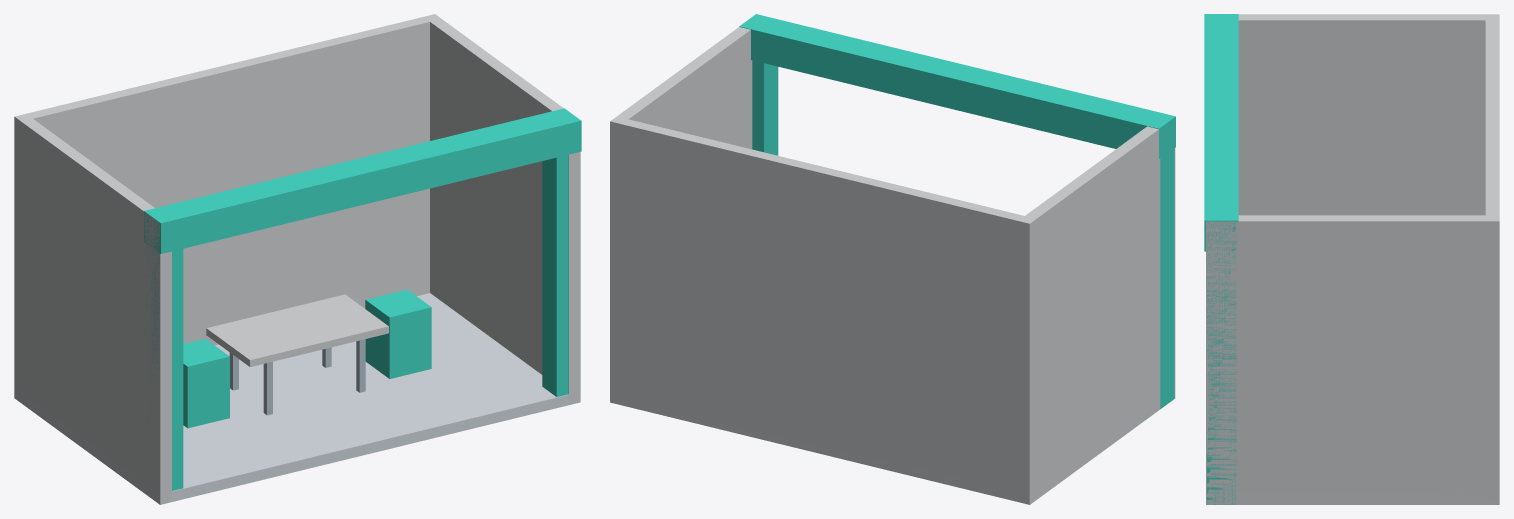
3 renders of one model, left to right at view 1: azimuth 30°, elevation 25°; view 2: azimuth 150°, elevation 25°; view 3: azimuth 270°, elevation 25°, orthographic.
Visible parts, largest first — view 1: Exhibition Booth Concept; view 2: Exhibition Booth Concept; view 3: Exhibition Booth Concept.
Boxes of the visible parts, <box> form: Exhibition Booth Concept: <box>14,14,581,504</box>; Exhibition Booth Concept: <box>610,14,1175,504</box>; Exhibition Booth Concept: <box>1204,14,1499,504</box>.
Size of the model in its own units: 5 by 3.2 by 3.01.
